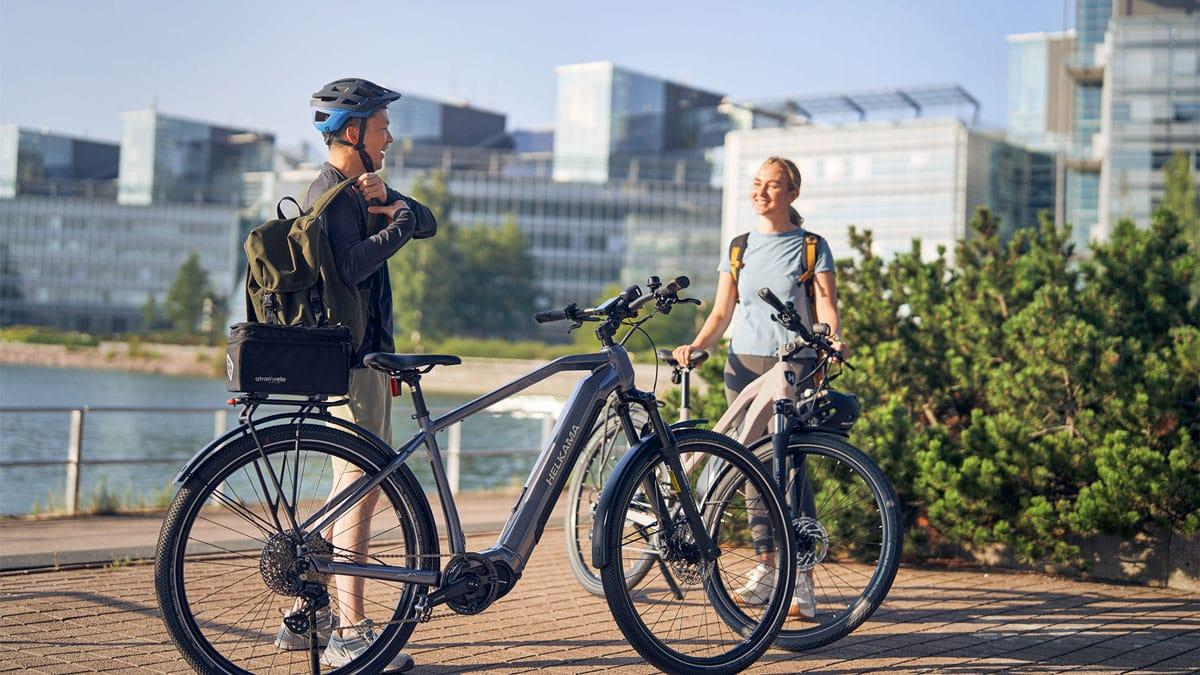bicycle: (148, 266, 803, 674), (562, 283, 908, 654)
